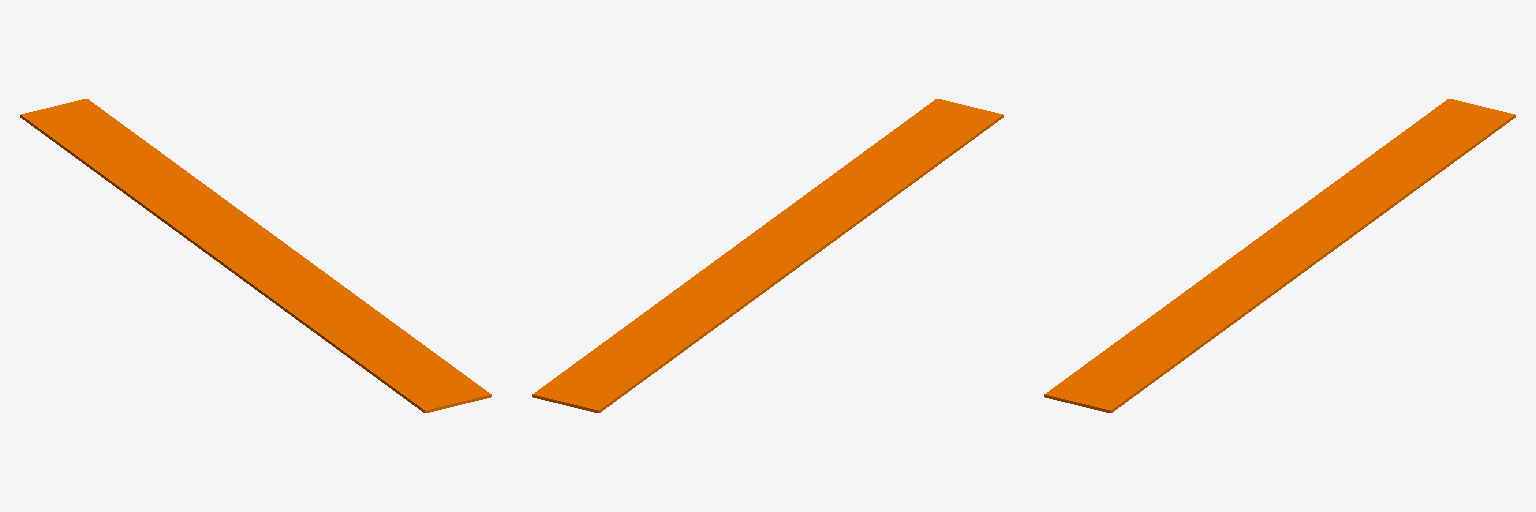
robot.urdf — ypaddle2D:
<robot name="ypaddle2D">
    
  <link name="base_link">
    <inertial>
      <origin rpy="0 0 0" xyz="0 0 0"/>
       <mass value="0"/>
       <inertia ixx="0" ixy="0" ixz="0" iyy="0" iyz="0" izz="0"/>
    </inertial>
  </link>

  <link name="x_link">
    <inertial>
      <origin rpy="0 0 0" xyz="0 0 0"/>
       <mass value="0.0001"/>
       <inertia ixx="0.0001" ixy="0" ixz="0" iyy="0.0001" iyz="0" izz="0.0001"/>
    </inertial>
  </link>


  <link name="y_link">
    <inertial>
      <origin rpy="0 0 0" xyz="0 0 0"/>
       <mass value="0.0001"/>
       <inertia ixx="0.0001" ixy="0" ixz="0" iyy="0.0001" iyz="0" izz="0.0001"/>
    </inertial>
  </link>


  <link name="theta_link">
    <inertial>
      <origin rpy="0 0 0" xyz="0 0 0"/>
       <mass value="1.0"/>
       <inertia ixx="0.0001" ixy="0" ixz="0" iyy="0.0001" iyz="0" izz="0.0001"/>
    </inertial>

    <visual>
      <origin rpy="0 0 0" xyz="0 0 0"/>
      <geometry>
        <box size="4.75 50 0.2" />      
      </geometry>
      <material name="white">
        <color rgba="1 0.5 0 1"/>
      </material>
    </visual>
    
    <collision>
      <origin rpy="0 0 0" xyz="0 0 0"/>
      <geometry>
        <box size="4.75 50 0.2" />
      </geometry>
    </collision>
  </link>

  <joint name = "x_prismatic" type = "prismatic">
    <origin xyz = "0.0 0.0 0.0" rpy = "0 0 0"/> 
    <parent link = "base_link"/>
    <child link= "x_link"/>
    <axis xyz = "1 0 0"/>
    <limit effort="1.0" lower="-10000" upper="10000" velocity="10000" />
    <dynamics damping = "0.0" friction="0.0" />
  </joint>

  <joint name = "y_prismatic" type = "prismatic">
    <origin xyz = "0.0 0.0 0.0" rpy = "0 0 0"/> 
    <parent link = "x_link" />
    <child link= "y_link"/>
    <axis xyz = "0 1 0" />
    <limit effort="1.0" lower="-10000" upper="10000" velocity="10000" />
    <dynamics damping = "0.0" friction="0.0" />
  </joint>

   <joint name = "theta_revolute" type = "revolute">
    <origin xyz = "0.0 0.0 0.0" rpy = "0 0 0"/> 
    <parent link = "y_link" />
    <child link= "theta_link"/>
    <axis xyz = "0 0 1" />
    <limit effort="1.0" lower="-10000" upper="10000" velocity="10000" />
    <dynamics damping = "0.0" friction="0.0" />
  </joint>

    
</robot>

--- What the picture shows (computed from the rendered views, not written in the file) ---
Views: 3 orthographic renders of the robot side by side, from view 1: azimuth 30°, elevation 25°; view 2: azimuth 150°, elevation 25°; view 3: azimuth 330°, elevation 25°.
Robot: ypaddle2D — 4 links, 3 joints (1 revolute, 2 prismatic); root link base_link; default pose: every joint at zero.
Links seen in each view (by area): view 1: theta_link; view 2: theta_link; view 3: theta_link.
Boxes of the visible links, x1,y1,x2,y2 form: theta_link: (20,99,491,412); theta_link: (532,99,1003,412); theta_link: (1044,99,1515,412).
Bounding box of the posed robot: 4.75 × 50 × 0.2 m (x, y, z).
Geometry: primitives only (box / cylinder / sphere), no mesh files.